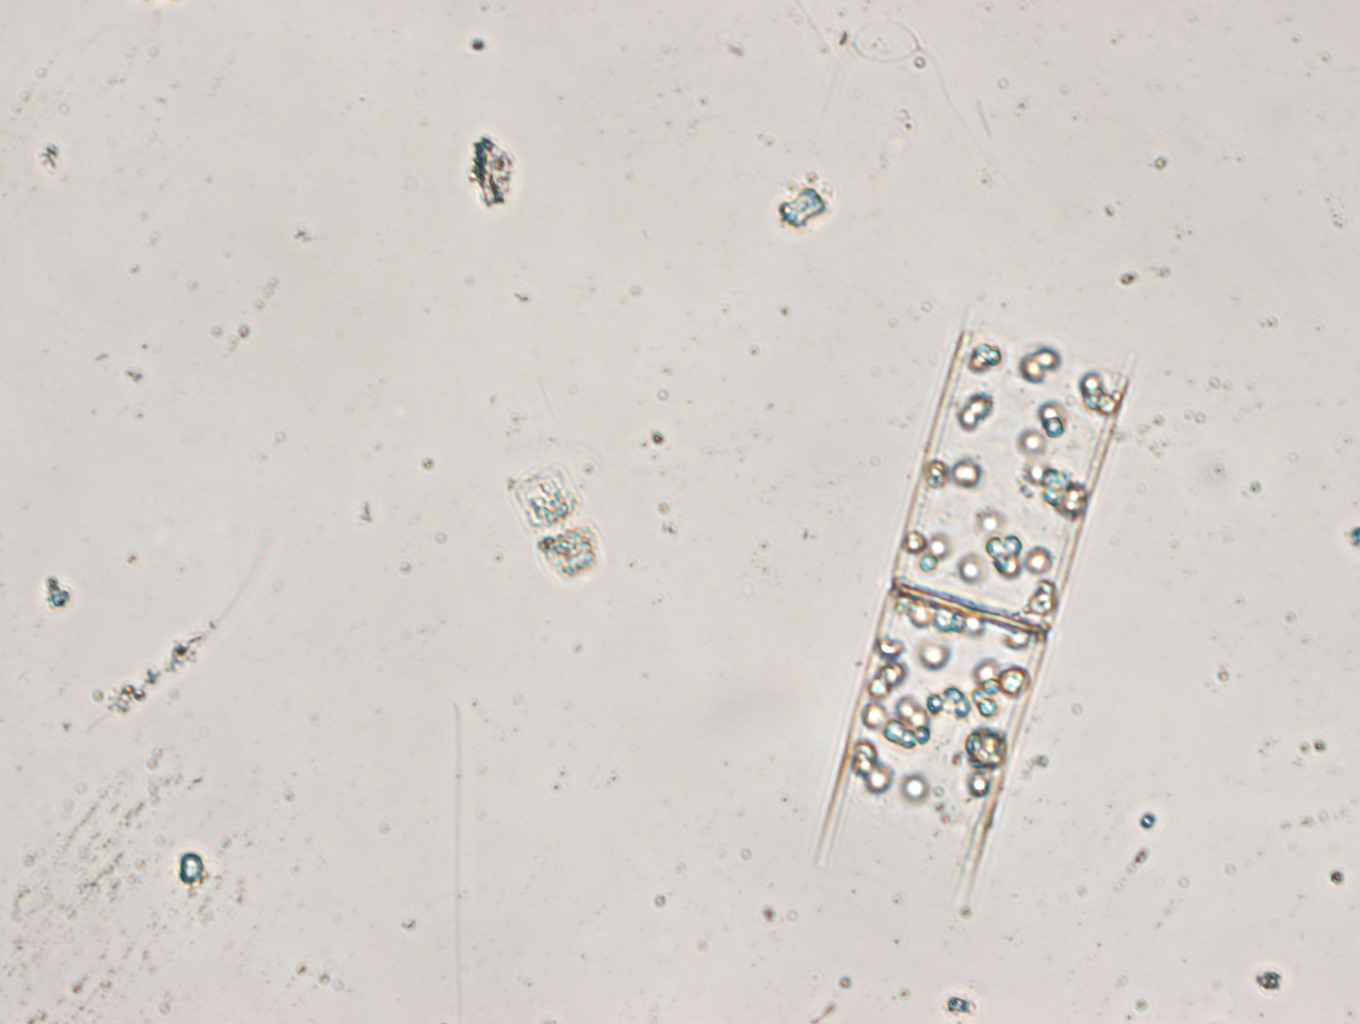guinardia flaccida: (812, 299, 1139, 919)
